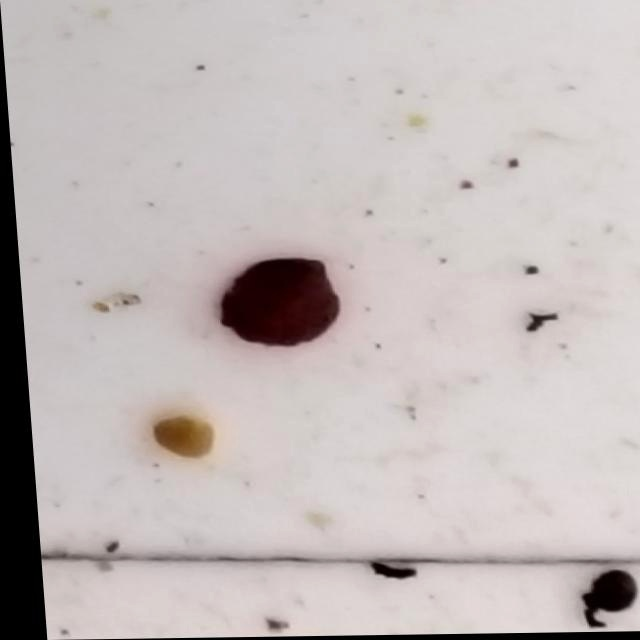varroa: (580, 571, 632, 617)
